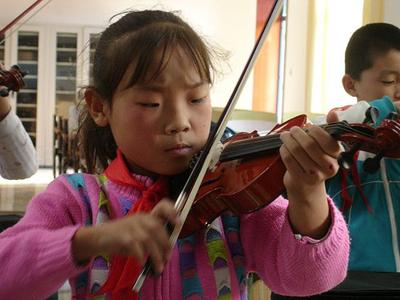person: (1, 12, 351, 300)
